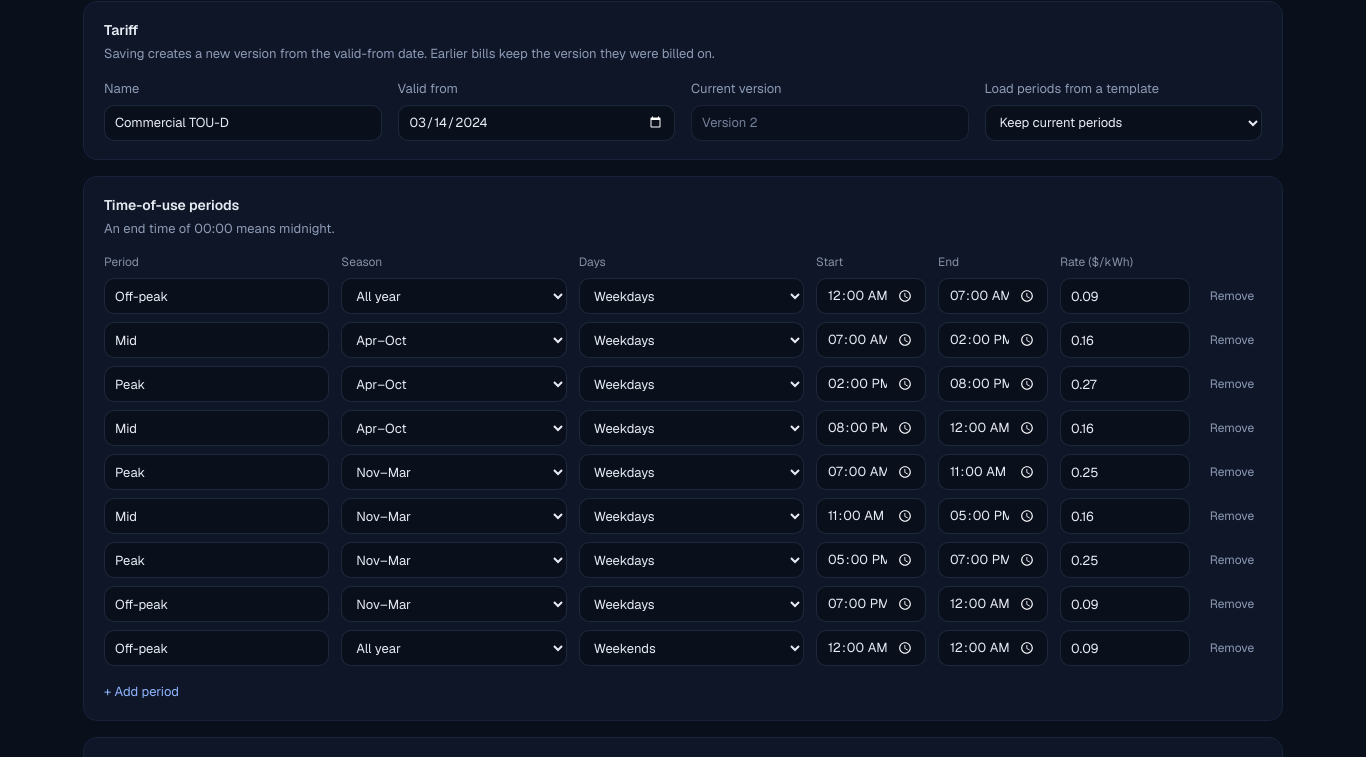
Test case: tariff › previews prices as periods change, and flags gaps before saving
(page scrolled)
Step 1. Replace the text in the number field named "Period 3 rate" with "0.3" → coordinates (1125, 384), box [1060,366,1190,402]
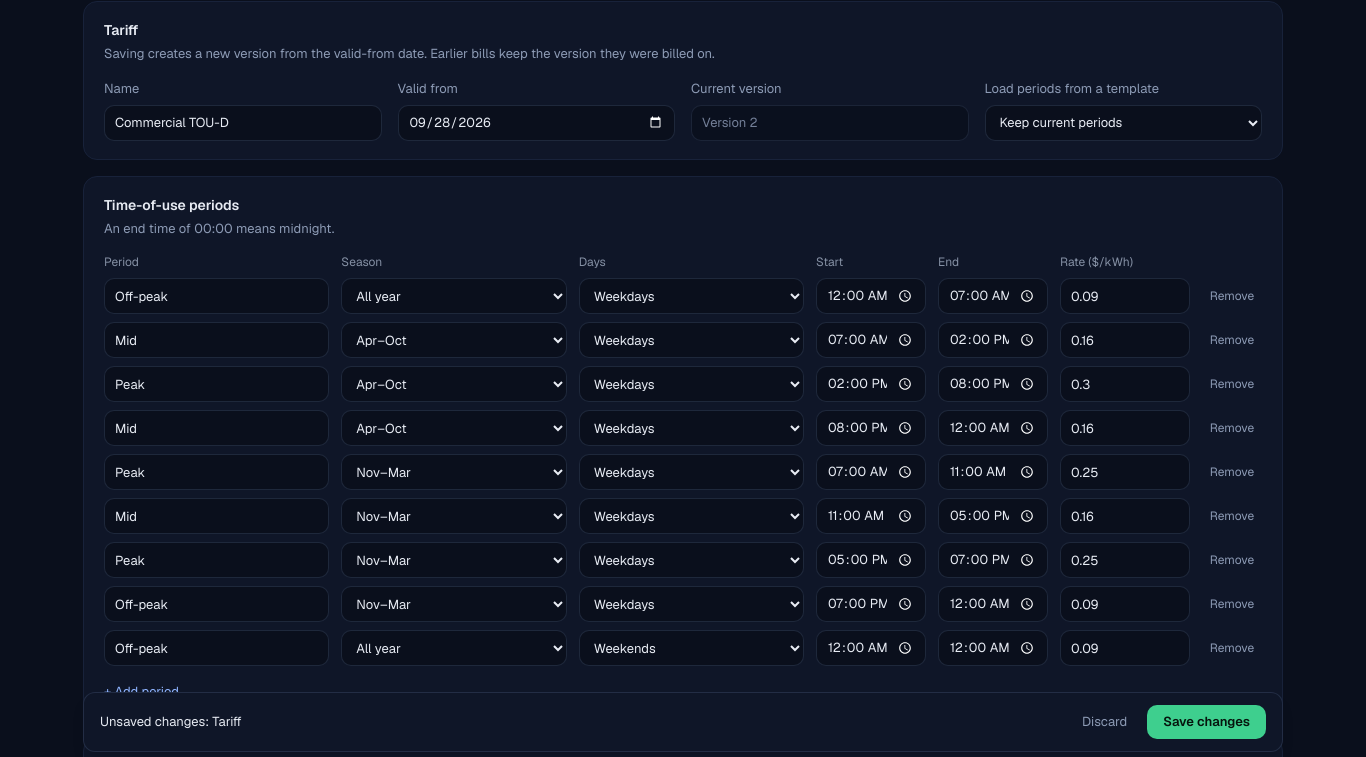
Step 2. Replace the text in the time field named "Period 3 end" with "19:00" → coordinates (993, 384), box [938,366,1048,402]
(page scrolled)
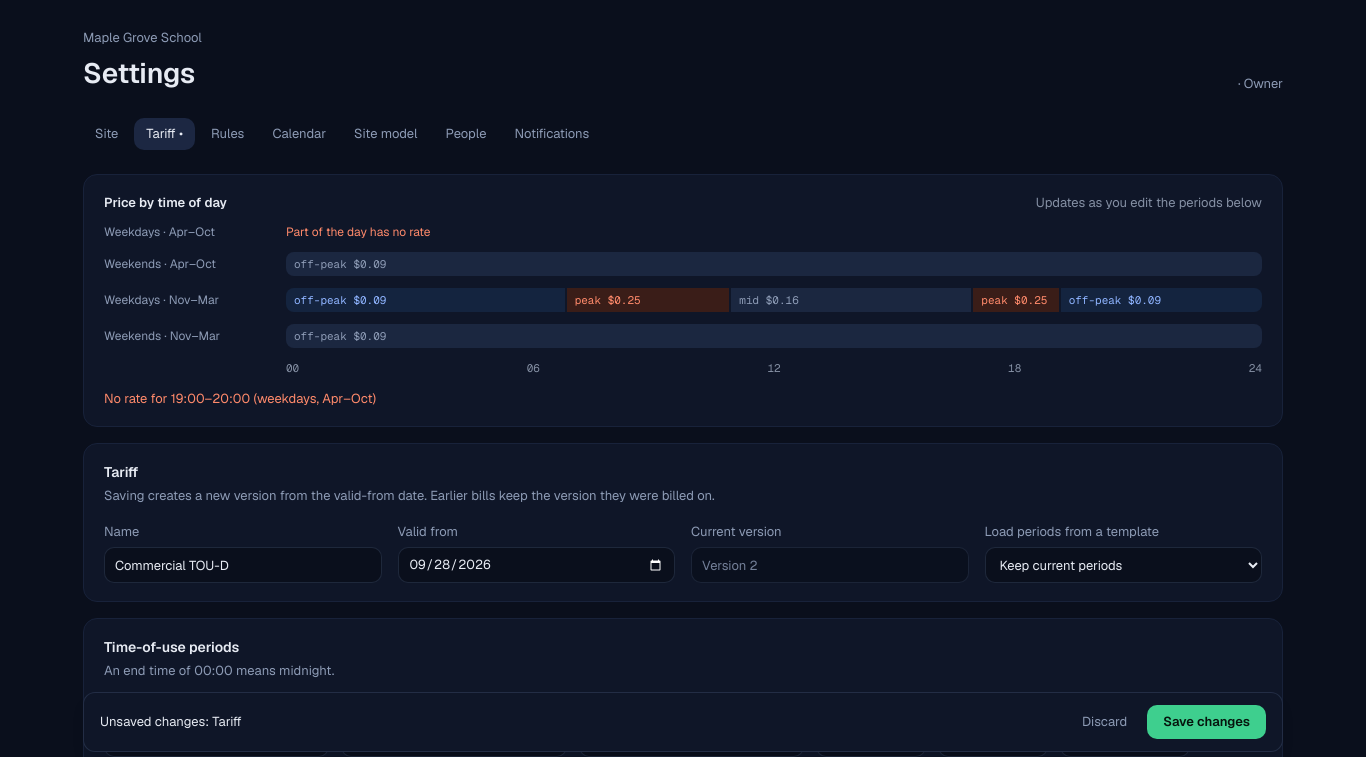
Result: the list named "Tariff problems" reads "No rate for 19:00–20:00 (weekdays, Apr–Oct)" at [104,390,376,406]
Result: the text with test id "strip-warning" reads "Part of the day has no rate" at [286,224,430,240]
